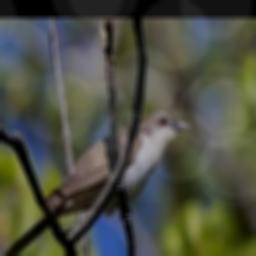Cuckoo: (0, 110, 190, 256)
